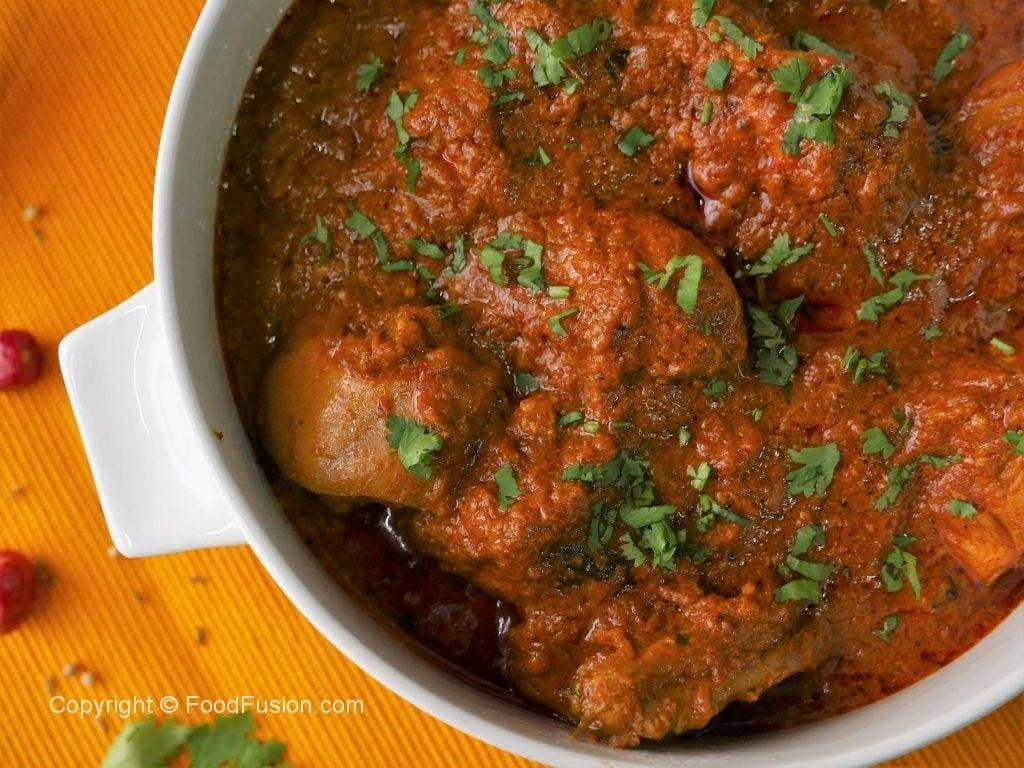chicken: (238, 0, 1024, 768)
